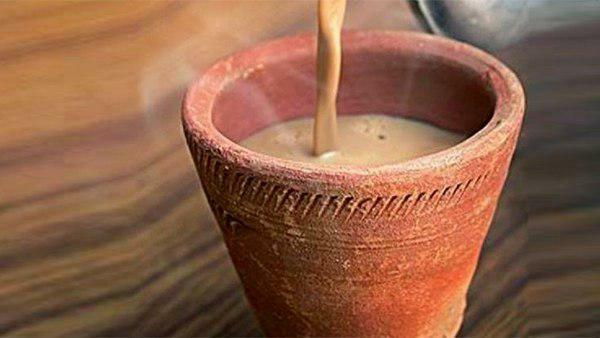Chai: (237, 113, 480, 169), (315, 0, 345, 158)
